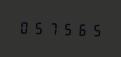five: (60, 19, 73, 37), (88, 20, 101, 38), (31, 19, 44, 36)
seven: (46, 19, 59, 36)
six: (74, 20, 87, 37)
zero: (17, 18, 30, 35)
